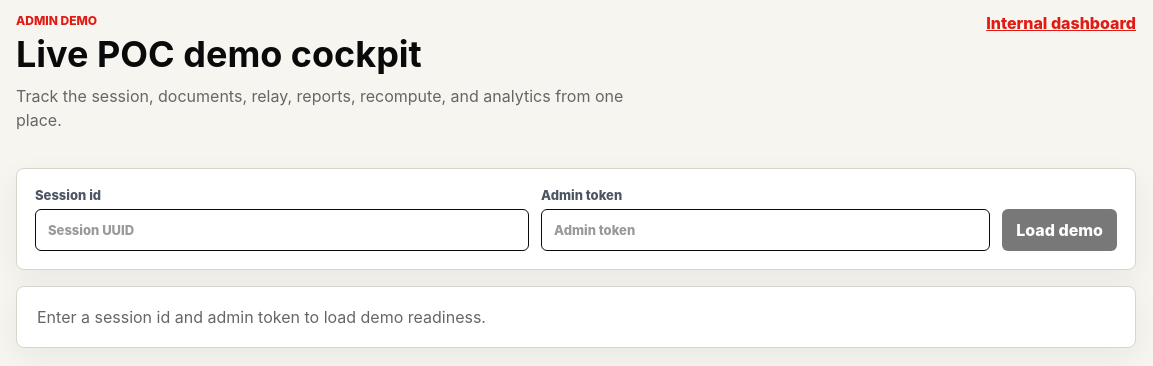
Test: DemoCockpit › stays idle until token and session are entered
The image size is (1153, 366).
Expected: the text "Enter a session id and admin token to load demo readiness." is shown, [16, 286, 1136, 348]
Expected: the button "Load demo" is disabled, [1002, 209, 1117, 251]
Type "s1" into the field labelled "Session id".
click(282, 230); type("s1")  # box [35, 209, 529, 251]
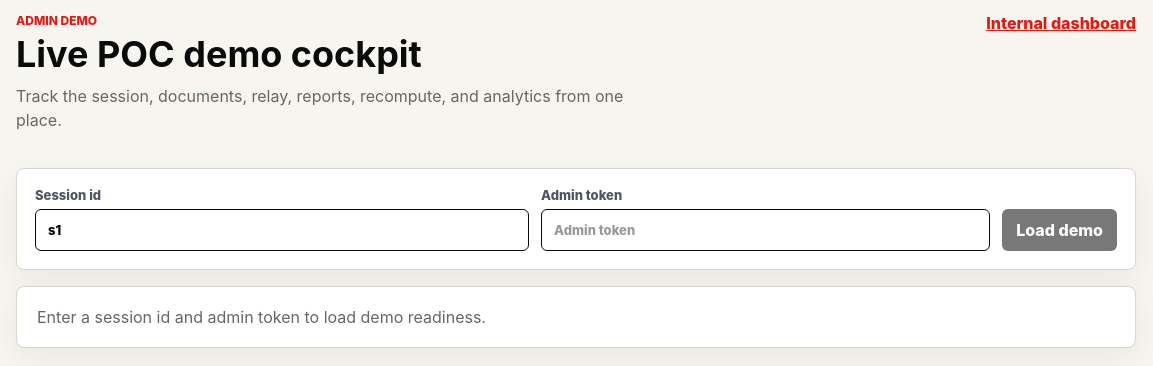
Type "secret" into the password field labelled "Admin token".
click(766, 230); type("secret")  # box [541, 209, 990, 251]
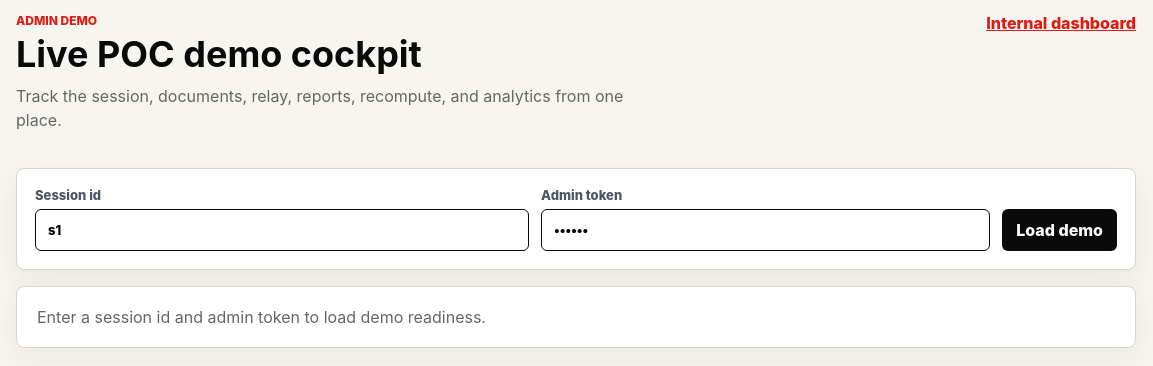
Now the button "Load demo" is enabled, box [1002, 209, 1117, 251]
